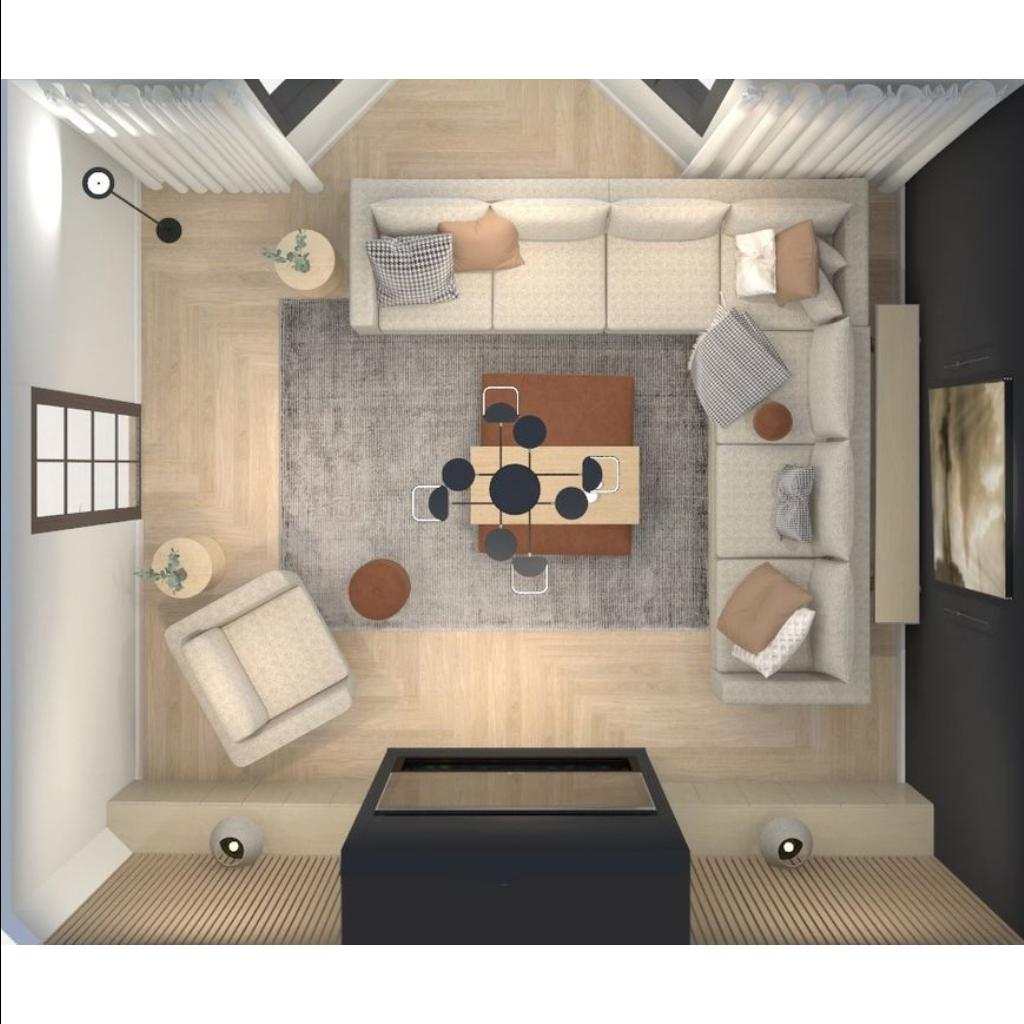TV stand: (340, 750, 696, 858)
chair: (164, 570, 328, 764)
coffee table: (470, 368, 640, 558)
floor lamp: (152, 204, 188, 248)
ottoman: (348, 561, 410, 619)
rug: (279, 299, 731, 629)
side table: (878, 308, 920, 624), (272, 228, 340, 294)
sideboard: (106, 778, 336, 858), (702, 786, 932, 860)
sofa: (349, 176, 863, 330), (712, 334, 866, 702)
window: (238, 82, 734, 108)
